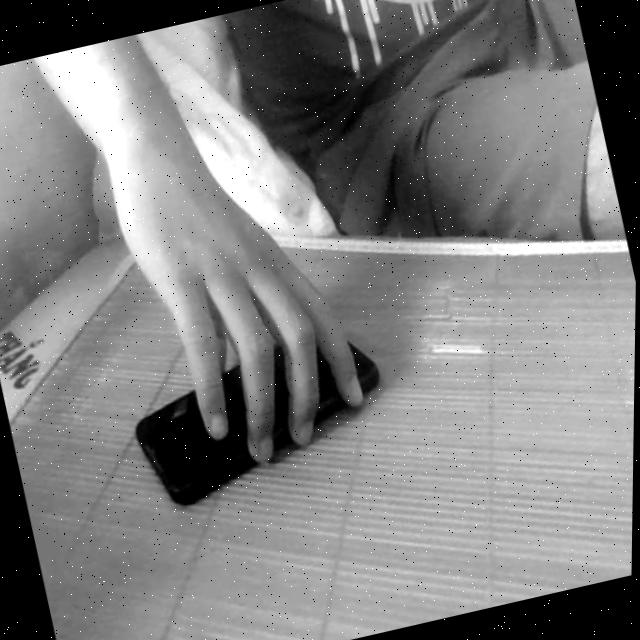phone: (103, 283, 418, 532)
